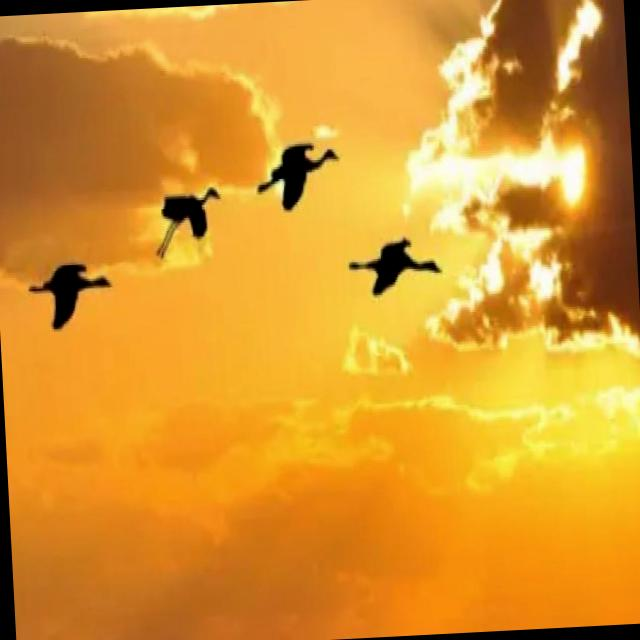bird: (255, 142, 342, 214), (28, 264, 114, 332), (348, 238, 443, 299), (152, 187, 224, 259)
